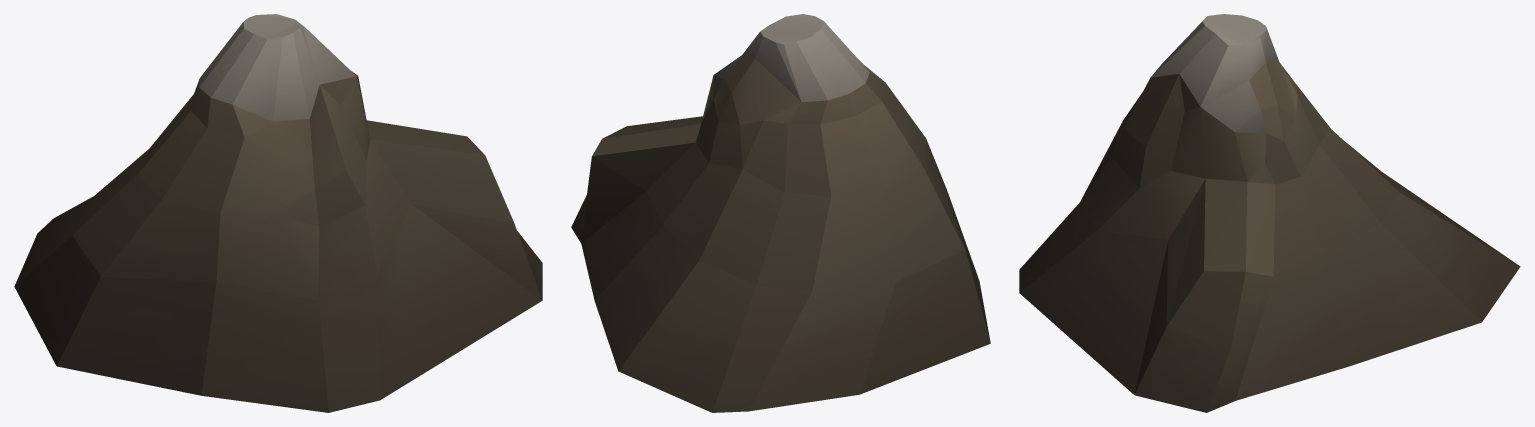
Rendered from Mountain_B.fbx.
3 renders of one model, left to right at view 1: azimuth 30°, elevation 25°; view 2: azimuth 150°, elevation 25°; view 3: azimuth 270°, elevation 25°, orthographic. The views are drawn at different scales.
Visible parts, largest first — view 1: Mountain_B; view 2: Mountain_B; view 3: Mountain_B.
Part boxes in pixels (<box>): Mountain_B: <box>14,14,542,412</box>; Mountain_B: <box>571,14,990,412</box>; Mountain_B: <box>1019,14,1520,412</box>.
Bounding box in the file's own units: 15121 × 14929 × 8962.
Materials: 1 (1 with a texture image).
